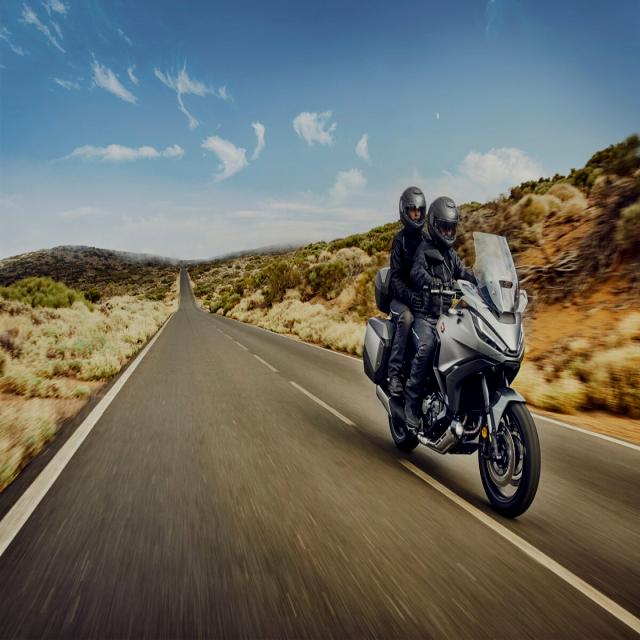MOTORCYCLE: (363, 242, 545, 509)
